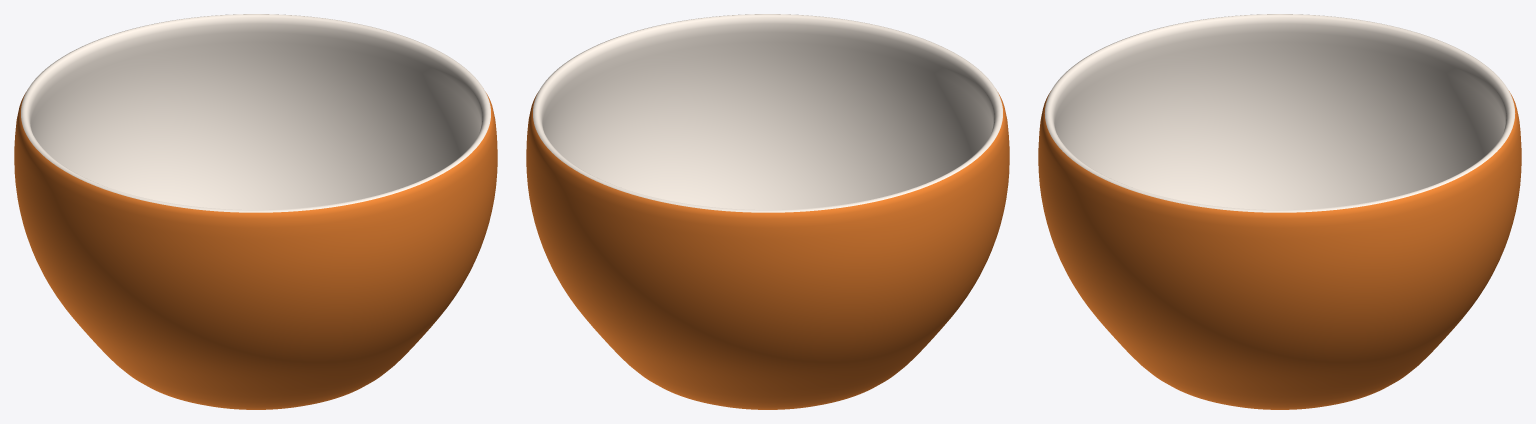
Rendered from solution-bowl.glb.
3 views of the same model, side by side, from view 1: azimuth 30°, elevation 25°; view 2: azimuth 150°, elevation 25°; view 3: azimuth 270°, elevation 25° (orthographic).
Parts seen in each view (by area): view 1: SolutionBowl; view 2: SolutionBowl; view 3: SolutionBowl.
Boxes of the visible parts, left/top/right/bottom form: SolutionBowl: left=14, top=14, right=497, bottom=409; SolutionBowl: left=526, top=14, right=1009, bottom=409; SolutionBowl: left=1038, top=14, right=1521, bottom=409.
Bounding box in the file's own units: 2 × 1.14 × 2.
